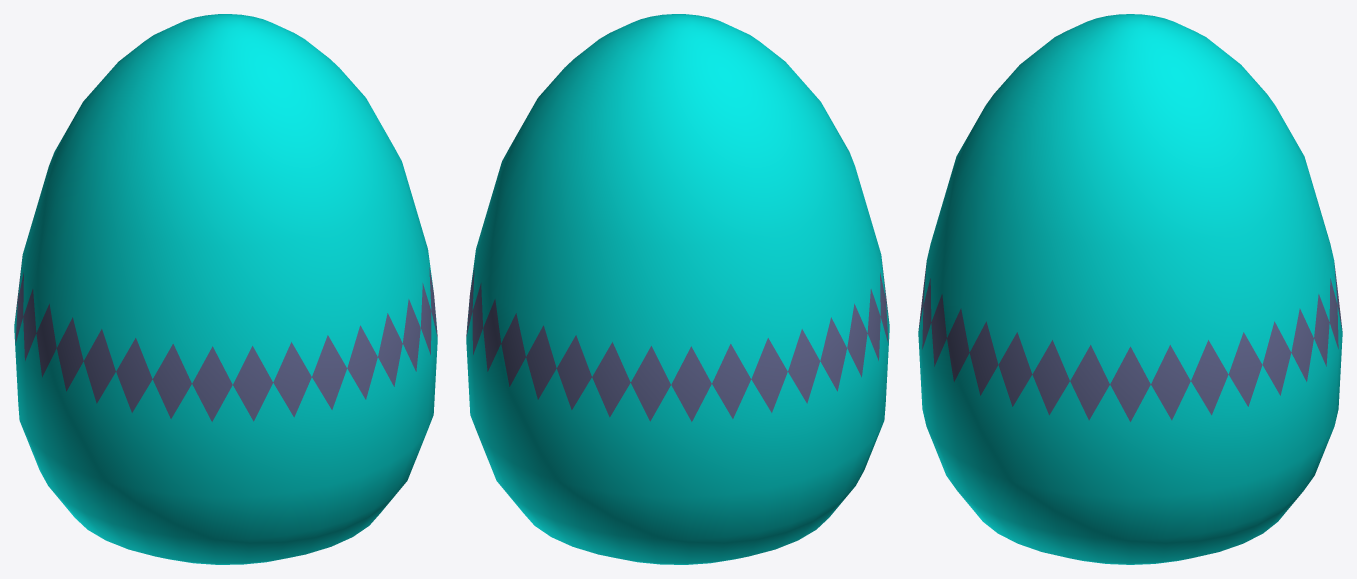
Rendered from Ice_02.fbx.
The picture shows the model from 3 angles, left to right: view 1: azimuth 30°, elevation 25°; view 2: azimuth 150°, elevation 25°; view 3: azimuth 270°, elevation 25°; orthographic projection.
Parts seen in each view (by area): view 1: Ice_02; view 2: Ice_02; view 3: Ice_02.
Part boxes in pixels (box(x1,y1,x2,y2)): Ice_02: box(14, 14, 437, 564); Ice_02: box(466, 14, 889, 564); Ice_02: box(918, 14, 1342, 564).
Bounding box in the file's own units: 315 × 417 × 315.
